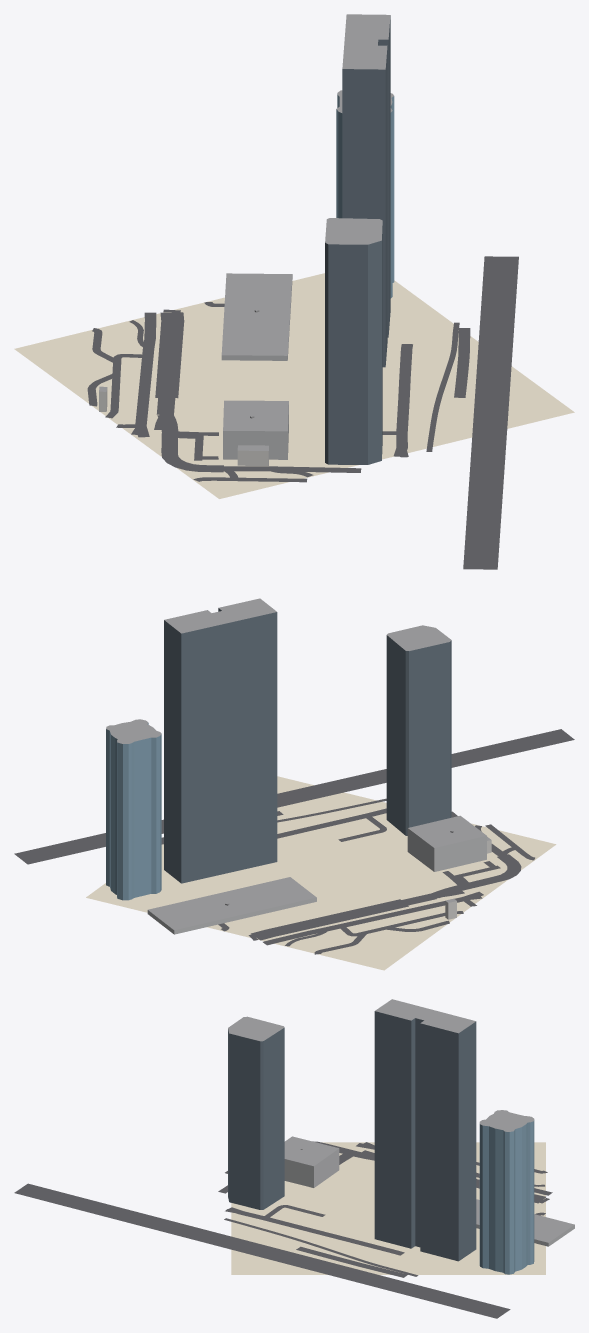
File: tile_-3_-4_far.glb
3 views of the same model, one above another, from view 1: azimuth 30°, elevation 25°; view 2: azimuth 150°, elevation 25°; view 3: azimuth 270°, elevation 25° (orthographic). The views are drawn at different scales.
Visible parts, largest first — view 1: nature_ground, roads_asphalt, buildings_glass_dark, buildings_roof, buildings_industrial, buildings_glass_blue; view 2: buildings_glass_dark, nature_ground, roads_asphalt, buildings_roof, buildings_glass_blue, buildings_industrial; view 3: buildings_glass_dark, nature_ground, roads_asphalt, buildings_glass_blue, buildings_roof, buildings_industrial.
Part boxes in pixels (x1,y1,x2,y2): nature_ground: (14,273,574,498); roads_asphalt: (87,256,518,569); buildings_glass_dark: (325,15,390,464); buildings_roof: (99,14,393,450); buildings_industrial: (221,275,292,459); buildings_glass_blue: (336,94,394,298); buildings_glass_dark: (164,608,451,883); nature_ground: (86,776,556,970); roads_asphalt: (14,729,574,954); buildings_roof: (106,598,490,930); buildings_glass_blue: (106,723,161,900); buildings_industrial: (147,828,486,934); buildings_glass_dark: (228,1011,476,1261); nature_ground: (231,1142,545,1274); roads_asphalt: (14,1141,552,1318); buildings_glass_blue: (479,1120,534,1274); buildings_roof: (228,999,574,1242); buildings_industrial: (284,1148,574,1246).
Size of the model in its own units: 336 by 200 by 446.
